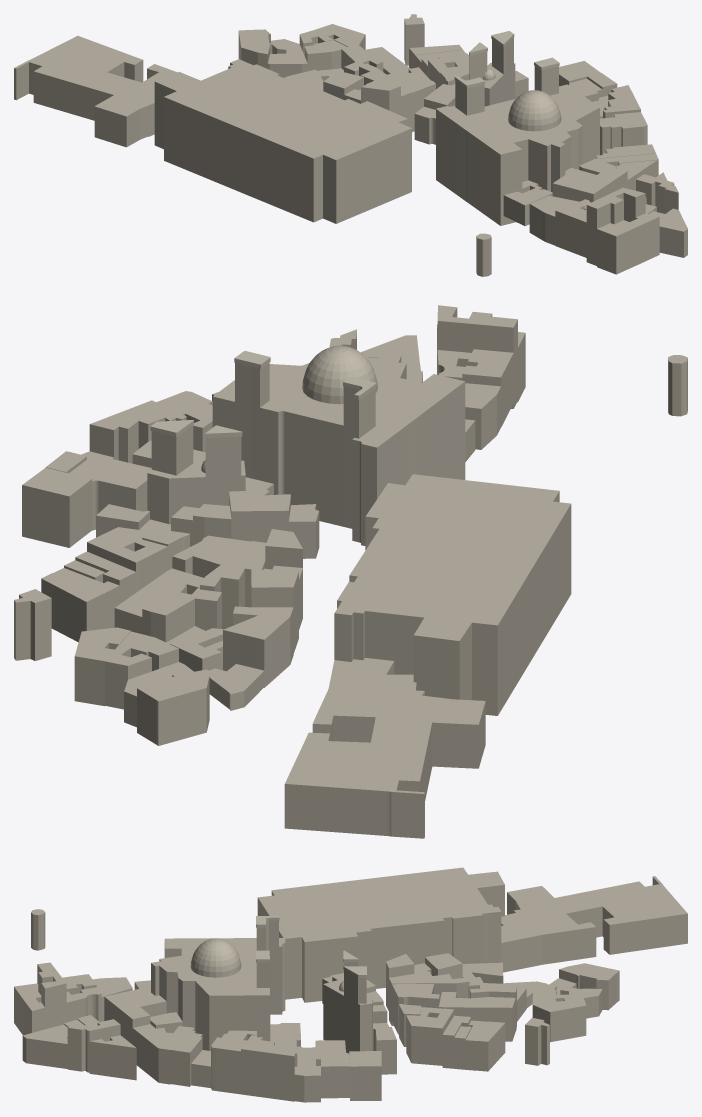
The model's file is senglea_60_26_collision.glb.
3 renders of one model, top to bottom at view 1: azimuth 30°, elevation 25°; view 2: azimuth 150°, elevation 25°; view 3: azimuth 270°, elevation 25°, orthographic. The views are drawn at different scales.
Visible parts, largest first — view 1: geometry_0; view 2: geometry_0; view 3: geometry_0.
Boxes of the visible parts, x1=… form: geometry_0: x1=14, y1=14, x2=687, y2=276; geometry_0: x1=14, y1=305, x2=687, y2=838; geometry_0: x1=14, y1=867, x2=687, y2=1102.
Size of the model in its own units: 147 by 35.41 by 210.
